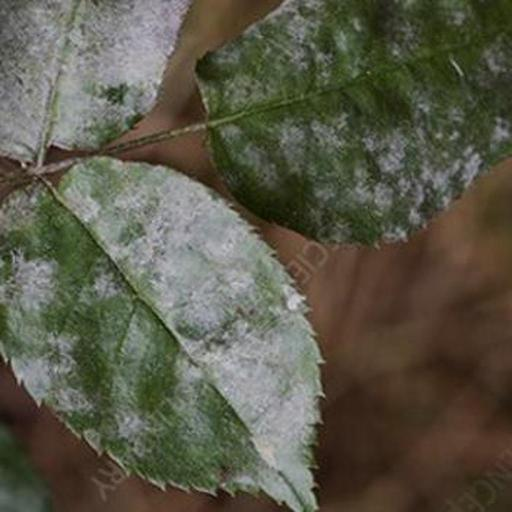powdery_mildew: (0, 159, 320, 512), (197, 0, 512, 244), (0, 0, 192, 163)
